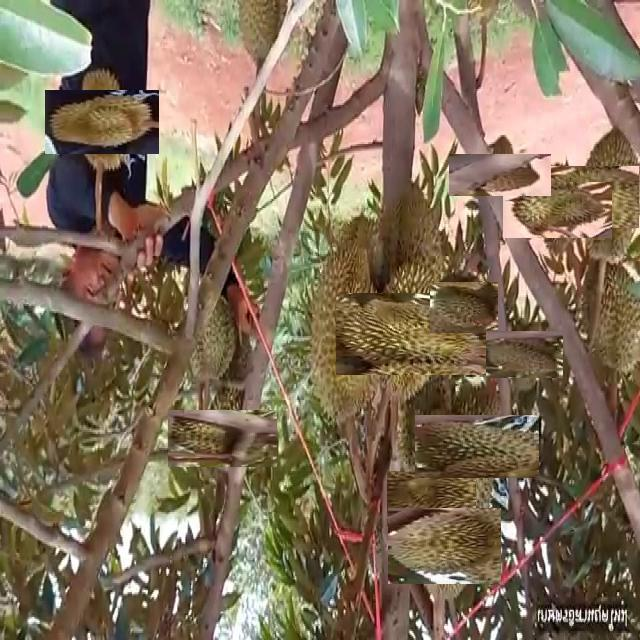durian: (303, 237, 387, 435), (353, 275, 471, 393), (397, 499, 492, 594), (429, 399, 524, 494), (555, 146, 640, 249), (57, 77, 146, 166), (181, 397, 264, 480), (516, 168, 598, 251), (182, 287, 239, 387), (394, 463, 469, 538), (464, 139, 537, 212), (493, 323, 556, 386), (434, 278, 494, 338), (233, 2, 291, 64)
